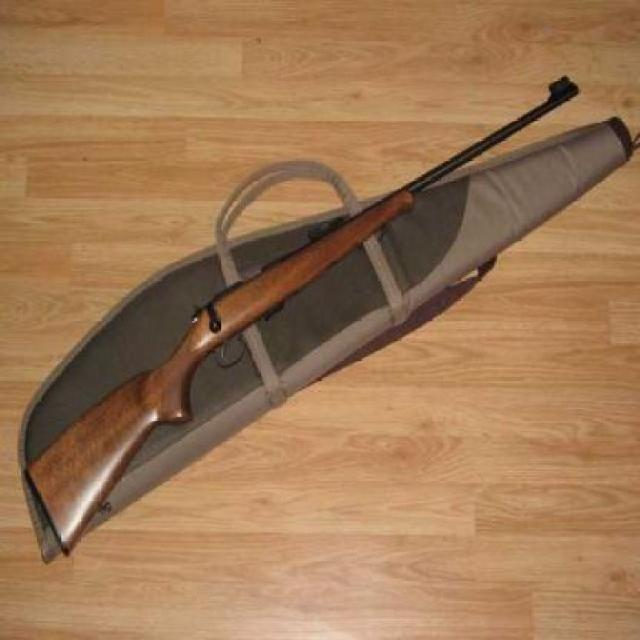weapon: (43, 72, 558, 556)
